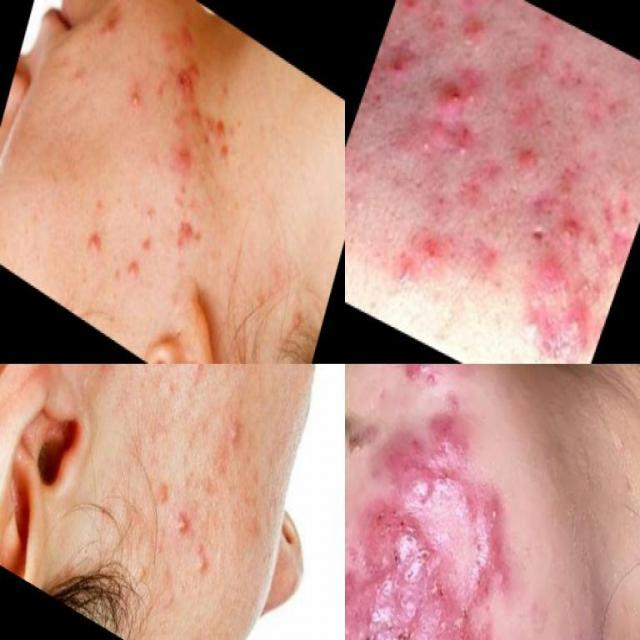Pimples: (377, 382, 482, 540), (345, 499, 458, 640), (442, 480, 526, 622), (158, 38, 212, 125), (76, 195, 121, 284), (170, 202, 217, 280), (408, 594, 475, 640), (432, 60, 480, 124), (270, 282, 314, 350), (161, 492, 204, 556), (408, 216, 450, 276), (551, 202, 597, 254), (375, 39, 419, 90), (120, 244, 158, 302), (507, 141, 551, 191), (555, 293, 595, 347), (120, 66, 154, 125), (220, 399, 253, 459), (532, 239, 566, 287), (216, 364, 262, 378), (462, 612, 466, 618)
